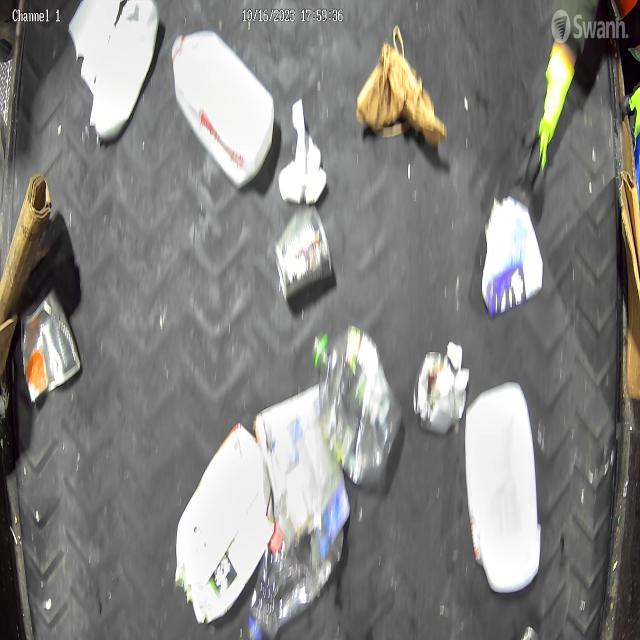can: (20, 285, 81, 403), (276, 206, 332, 298)
milk_jug: (171, 32, 275, 190), (465, 380, 542, 592)
non_white_jug: (175, 424, 274, 624)
plastic_bottle: (312, 326, 402, 490)
